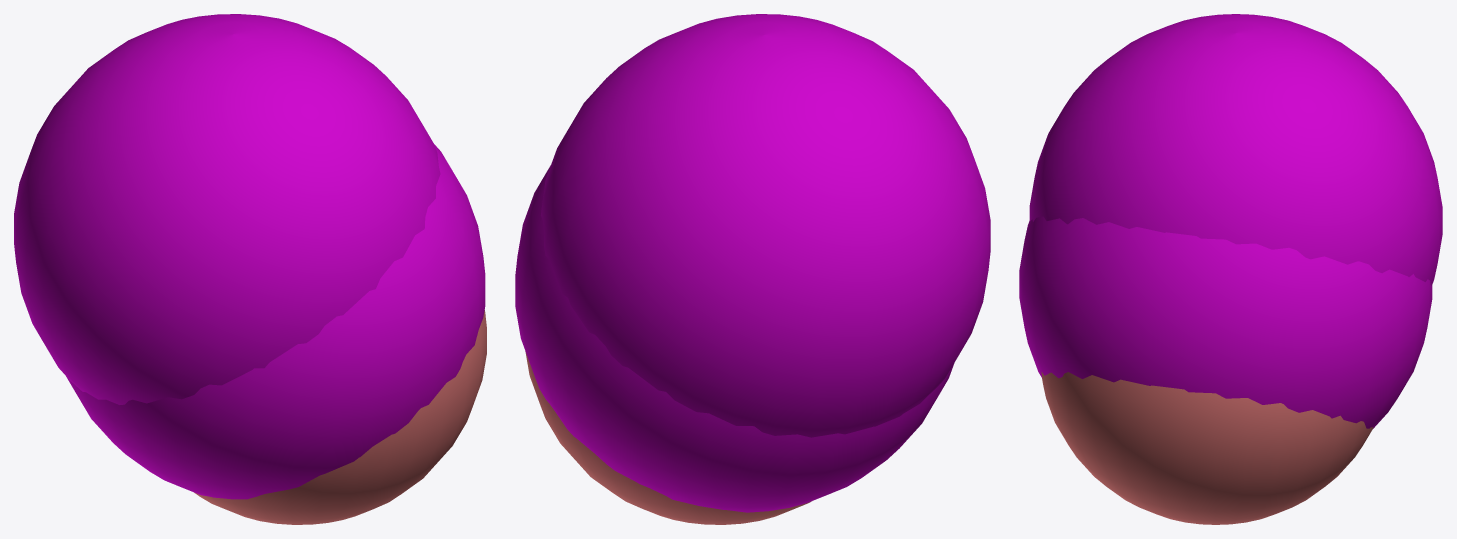
Rendered from iodine.fbx.
3 renders of one model, left to right at view 1: azimuth 30°, elevation 25°; view 2: azimuth 150°, elevation 25°; view 3: azimuth 270°, elevation 25°, orthographic. The views are drawn at different scales.
Parts seen in each view (by area): view 1: Iodine_mesh|Iodine_ball|Dupli|, Iodine_ball, Bromine_ball; view 2: Iodine_mesh|Iodine_ball|Dupli|, Iodine_ball, Bromine_ball; view 3: Iodine_mesh|Iodine_ball|Dupli|, Iodine_ball, Bromine_ball.
Boxes of the visible parts, x1,y1,x2,y2 form: Iodine_mesh|Iodine_ball|Dupli|: (14,14,440,404); Iodine_ball: (66,144,485,499); Bromine_ball: (194,310,486,524); Iodine_mesh|Iodine_ball|Dupli|: (541,14,990,437); Iodine_ball: (515,165,954,512); Bromine_ball: (525,351,811,524); Iodine_mesh|Iodine_ball|Dupli|: (1029,14,1442,285); Iodine_ball: (1019,216,1432,428); Bromine_ball: (1041,372,1373,524).
Size of the model in its own units: 285 by 319 by 272.
